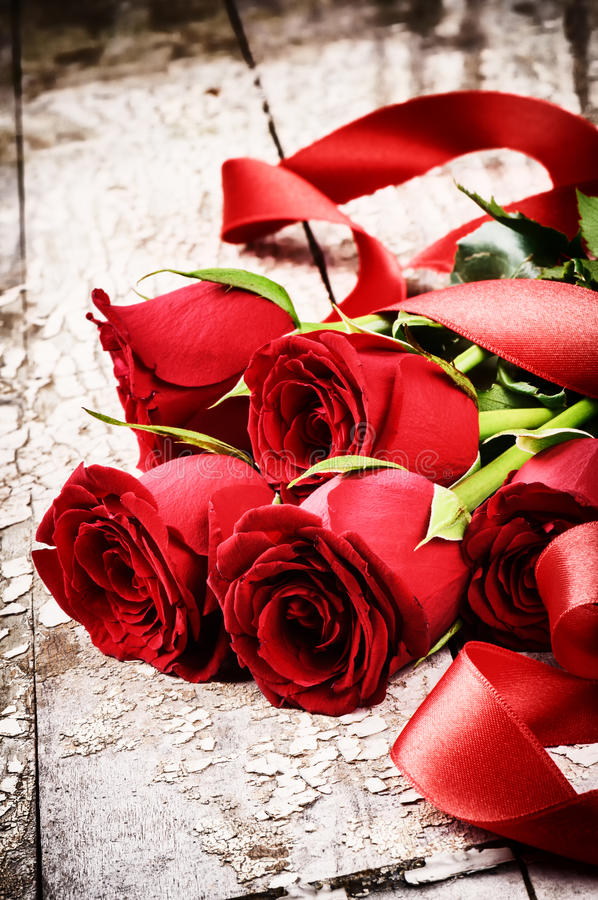RedRose: (185, 453, 434, 725), (30, 426, 263, 700), (249, 307, 486, 515), (76, 256, 304, 448), (454, 450, 598, 637)
